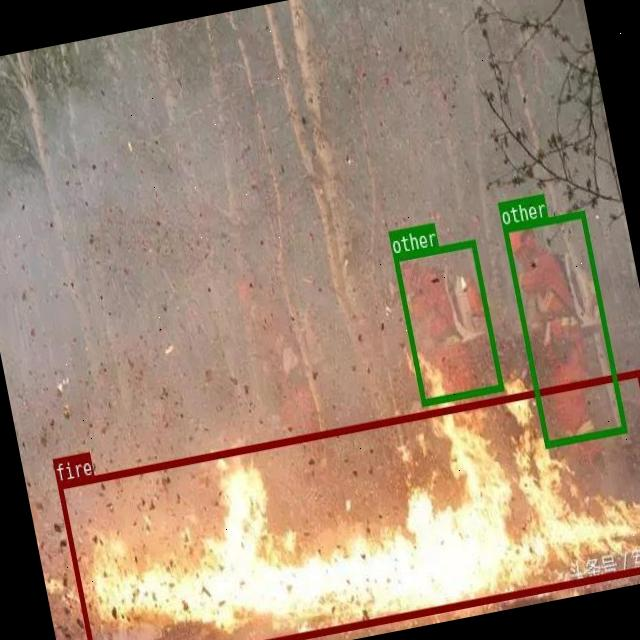fire: (57, 368, 640, 640)
